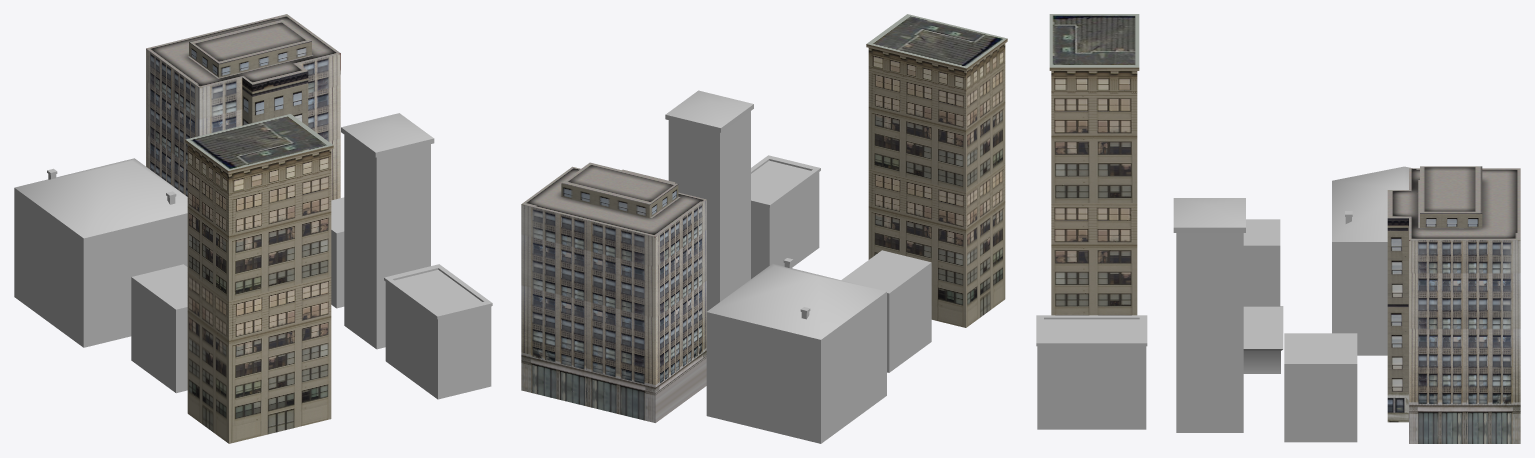
File: lowpolybuildings.fbx
3 renders of one model, left to right at view 1: azimuth 30°, elevation 25°; view 2: azimuth 150°, elevation 25°; view 3: azimuth 270°, elevation 25°, orthographic. The views are drawn at different scales.
Visible parts, largest first — view 1: Building_.004, Building_.002, Building_.005, Building_.006, Building_, Building_.001, Building_.003; view 2: Building_.005, Building_.004, Building_.002, Building_.006, Building_, Building_.001; view 3: Building_.005, Building_.004, Building_.006, Building_, Building_.002, Building_.003, Building_.001.
Part boxes in pixels (<box>): Building_.004: <box>185,114,333,443</box>; Building_.002: <box>14,158,187,347</box>; Building_.005: <box>146,14,340,200</box>; Building_.006: <box>341,113,434,349</box>; Building_: <box>384,264,492,399</box>; Building_.001: <box>131,264,187,393</box>; Building_.003: <box>331,197,344,308</box>; Building_.005: <box>521,162,706,422</box>; Building_.004: <box>866,14,1007,327</box>; Building_.002: <box>706,258,886,443</box>; Building_.006: <box>665,90,753,311</box>; Building_: <box>751,155,820,278</box>; Building_.001: <box>841,250,931,372</box>; Building_.005: <box>1387,166,1520,443</box>; Building_.004: <box>1049,14,1139,315</box>; Building_.006: <box>1173,198,1245,432</box>; Building_: <box>1036,315,1147,429</box>; Building_.002: <box>1332,166,1412,355</box>; Building_.003: <box>1284,333,1357,442</box>; Building_.001: <box>1243,219,1283,373</box>.
Size of the model in its own units: 5478 by 4878 by 7509.
